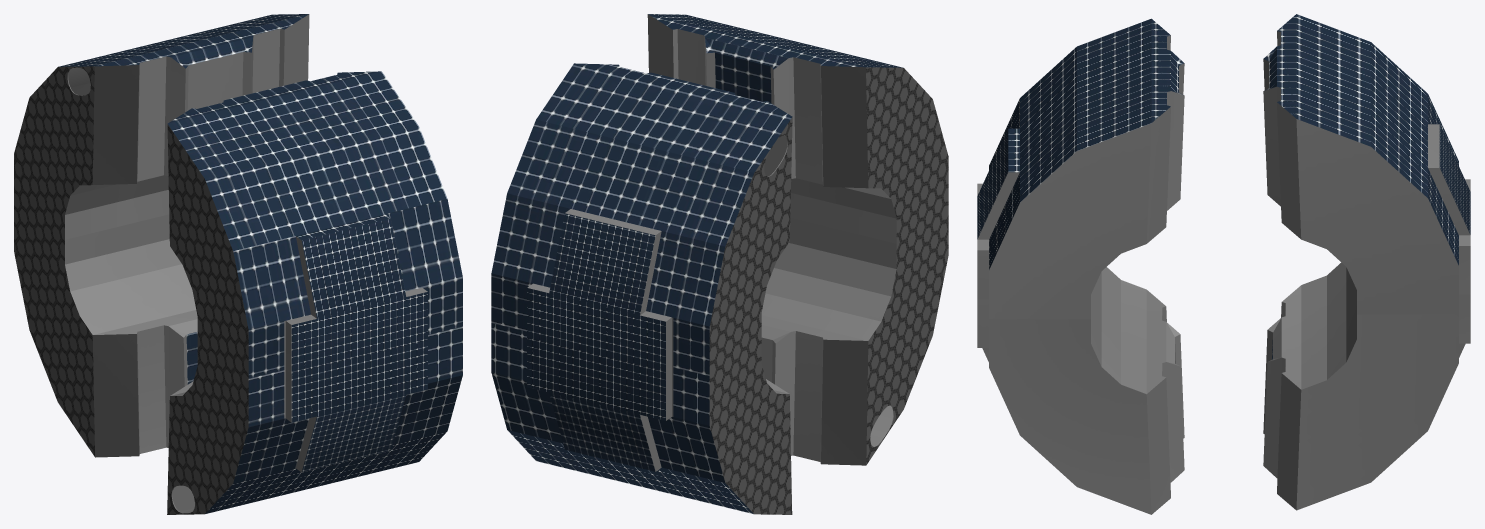
The model's file is InnerRooms.fbx.
3 renders of one model, left to right at view 1: azimuth 30°, elevation 25°; view 2: azimuth 150°, elevation 25°; view 3: azimuth 270°, elevation 25°, orthographic.
Visible parts, largest first — view 1: InnerRoom01, InnerRoom002; view 2: InnerRoom002, InnerRoom01; view 3: InnerRoom002, InnerRoom01.
Part boxes in pixels (box(x1,y1,x2,y2)): InnerRoom01: box(167, 71, 462, 514); InnerRoom002: box(14, 14, 309, 457); InnerRoom002: box(491, 63, 792, 514); InnerRoom01: box(647, 14, 948, 465); InnerRoom002: box(1263, 14, 1470, 510); InnerRoom01: box(977, 18, 1184, 514).
Size of the model in its own units: 729 by 1283 by 1448.
1 material, 1 textured.
